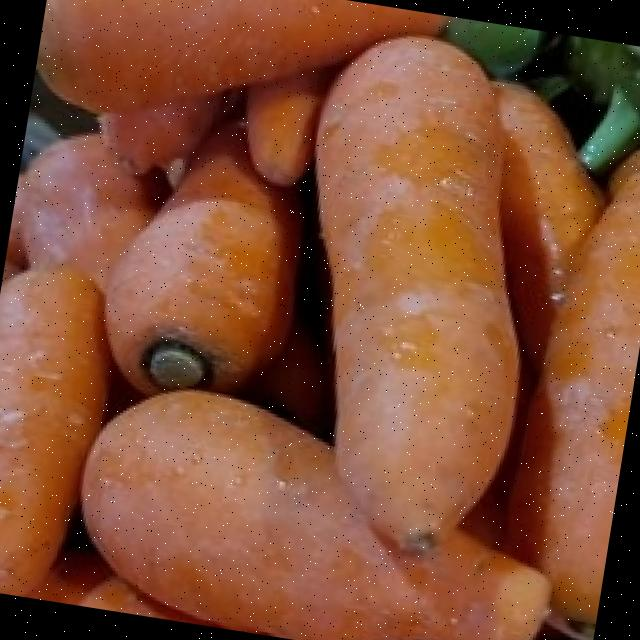carrot: (81, 35, 591, 640), (106, 122, 299, 394), (37, 0, 438, 105), (0, 265, 103, 590), (378, 524, 442, 553)
